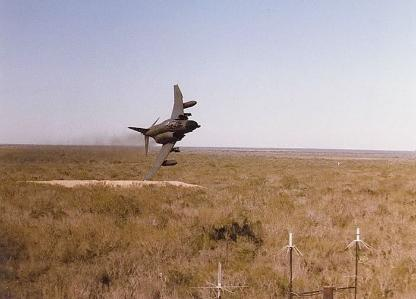F35: (126, 84, 200, 181)
